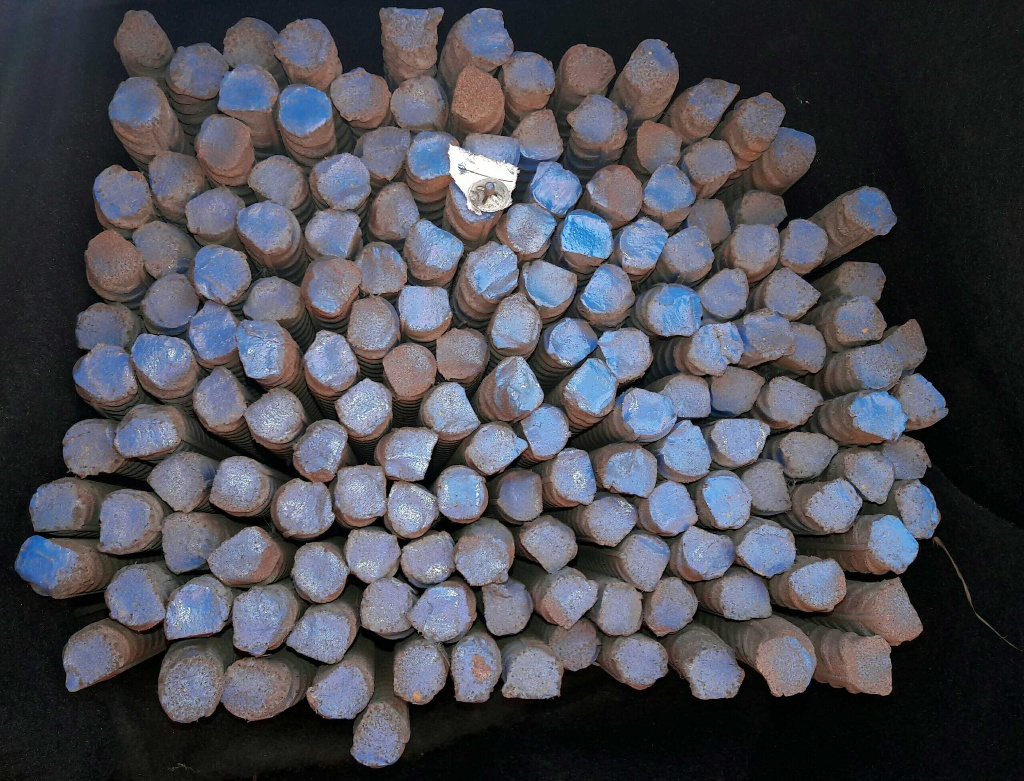dipstick: (12, 535, 82, 598), (160, 656, 221, 723), (209, 527, 279, 582), (106, 568, 166, 630), (379, 8, 441, 68), (272, 477, 334, 536), (93, 164, 152, 225), (222, 659, 283, 718), (71, 344, 134, 400), (407, 586, 471, 641), (291, 419, 347, 481), (286, 609, 350, 663), (115, 405, 180, 458), (164, 584, 227, 638), (146, 455, 205, 512), (352, 706, 407, 767), (233, 589, 283, 656), (307, 666, 370, 718), (450, 638, 501, 702), (313, 153, 370, 210), (407, 220, 463, 278), (132, 334, 191, 389), (62, 421, 122, 475), (194, 114, 251, 170), (562, 358, 617, 416), (757, 637, 812, 695), (141, 273, 200, 327), (304, 331, 357, 391), (453, 8, 514, 60), (131, 222, 188, 277), (194, 245, 251, 300), (586, 165, 641, 222), (521, 516, 576, 573), (303, 258, 361, 312), (393, 646, 446, 705), (100, 492, 152, 552), (466, 423, 527, 474), (169, 42, 226, 96), (63, 634, 122, 686), (162, 513, 213, 573), (492, 358, 543, 418), (246, 388, 301, 443), (293, 545, 347, 601), (334, 378, 391, 431), (678, 525, 735, 578), (194, 366, 246, 424), (467, 242, 519, 300), (687, 322, 742, 376), (209, 455, 262, 511), (86, 230, 143, 282), (29, 480, 87, 531), (217, 65, 278, 113), (482, 581, 535, 636), (356, 127, 411, 180), (149, 152, 205, 204), (450, 67, 500, 125), (540, 577, 598, 627), (274, 20, 333, 69), (792, 559, 847, 611), (331, 69, 387, 120), (388, 480, 438, 537), (369, 183, 418, 241), (401, 532, 454, 585), (626, 40, 679, 93), (807, 480, 861, 532), (391, 77, 446, 128), (688, 649, 743, 700), (76, 302, 132, 352), (507, 648, 563, 698), (648, 578, 698, 634), (346, 528, 399, 580), (383, 343, 436, 395), (237, 201, 291, 252), (223, 18, 277, 69), (454, 536, 509, 586), (739, 525, 794, 575), (849, 392, 905, 441), (875, 583, 923, 640), (759, 377, 817, 424), (336, 466, 387, 519), (520, 405, 570, 459), (615, 638, 669, 688), (305, 209, 360, 258), (598, 329, 653, 378), (844, 449, 893, 504), (108, 77, 164, 125), (533, 160, 581, 216), (238, 319, 285, 376), (186, 188, 244, 234), (624, 534, 670, 592), (115, 9, 166, 61), (360, 580, 412, 631), (426, 383, 478, 434), (279, 85, 332, 135), (437, 467, 487, 520), (843, 186, 896, 236), (767, 268, 820, 318), (248, 156, 302, 205), (869, 516, 918, 570), (493, 295, 541, 350), (355, 241, 406, 292), (506, 203, 556, 255), (348, 298, 397, 351), (568, 94, 621, 143), (701, 476, 750, 529), (663, 420, 710, 475), (649, 285, 700, 335), (698, 267, 748, 318), (897, 373, 948, 423), (566, 43, 615, 95), (562, 209, 614, 258), (587, 495, 636, 547), (742, 461, 791, 513), (435, 329, 488, 377), (523, 260, 576, 308), (650, 481, 698, 534), (622, 388, 676, 435), (601, 450, 656, 496), (780, 432, 835, 478), (388, 428, 437, 479), (582, 264, 636, 310), (850, 637, 892, 696), (729, 223, 778, 273), (408, 131, 459, 179), (745, 309, 793, 360), (550, 618, 597, 670), (553, 449, 596, 505), (712, 365, 761, 414), (189, 307, 236, 358), (515, 108, 562, 159), (895, 482, 937, 539), (598, 581, 642, 635), (711, 420, 765, 464), (244, 277, 299, 319), (619, 219, 666, 268), (398, 285, 450, 329), (636, 121, 682, 170), (851, 344, 901, 389), (505, 51, 556, 95), (644, 166, 695, 210), (664, 227, 713, 272), (466, 131, 521, 171), (686, 138, 736, 182), (835, 297, 885, 341), (722, 574, 770, 619), (882, 433, 928, 479), (547, 320, 596, 363), (663, 375, 711, 418), (500, 471, 542, 520), (689, 80, 738, 122), (836, 263, 886, 304), (741, 94, 785, 140), (687, 200, 731, 245), (785, 220, 827, 266), (788, 323, 826, 373), (888, 320, 926, 369), (774, 126, 815, 169), (740, 191, 786, 227)
